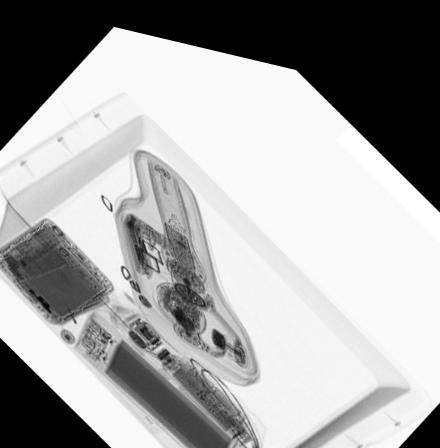Powerbank: (71, 301, 239, 448)
